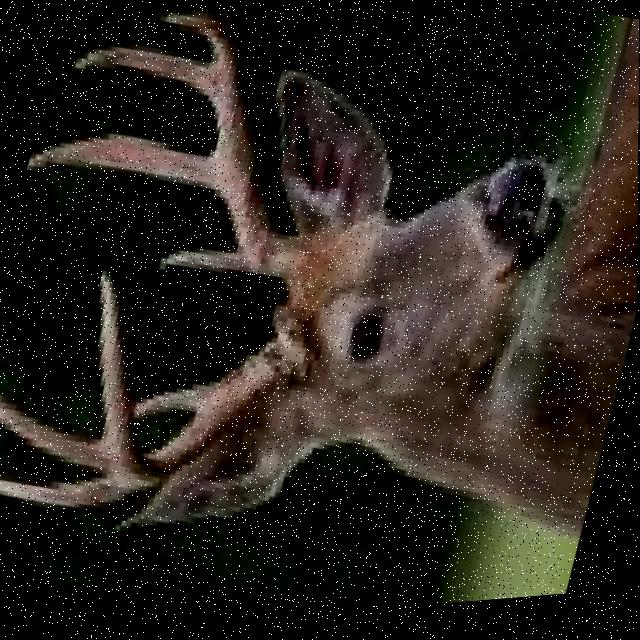L-F: (99, 269, 277, 499)
L-G1: (134, 386, 203, 417)
R-F: (160, 12, 300, 282)
R-G1: (158, 250, 253, 276)
R-G2: (26, 134, 217, 193)
R-G3: (72, 47, 207, 94)
